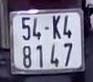1: (35, 42, 46, 69)
4: (61, 12, 75, 39), (47, 42, 60, 68), (32, 15, 44, 41)
5: (19, 14, 32, 41)
7: (62, 40, 76, 66)
8: (20, 42, 34, 68)
K: (49, 14, 61, 41)
